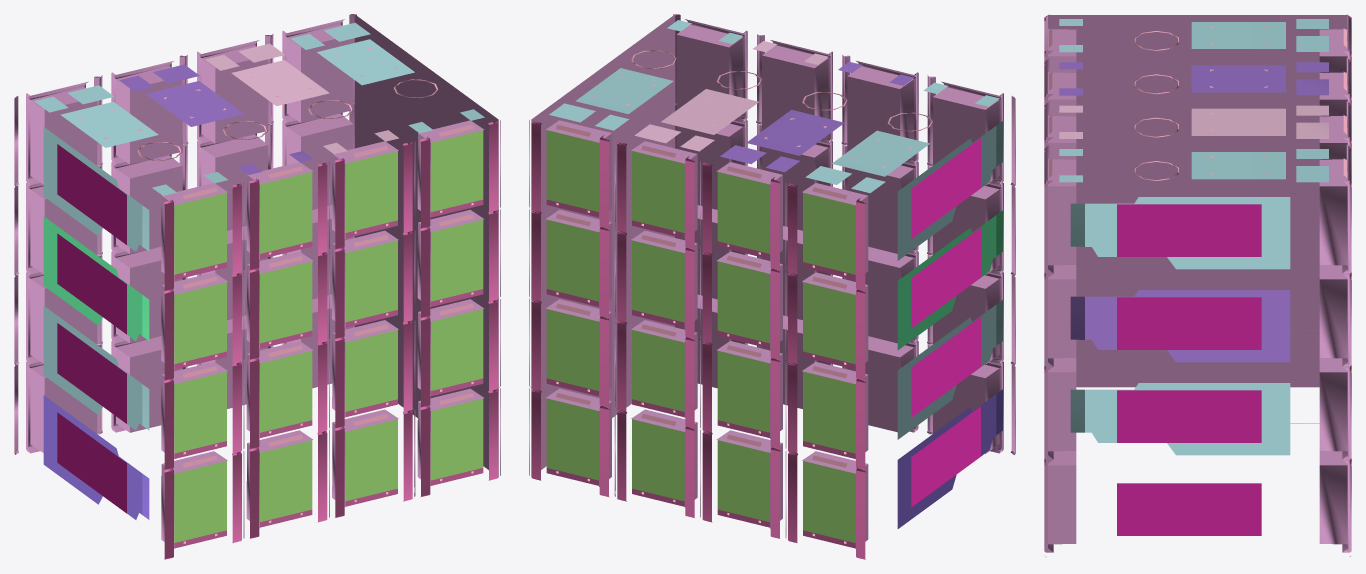
Rendered from storage_container_stack_5_b_lod3.glb.
The picture shows the model from 3 angles, left to right: view 1: azimuth 30°, elevation 25°; view 2: azimuth 150°, elevation 25°; view 3: azimuth 270°, elevation 25°; orthographic projection. The views are drawn at different scales.
Bounding box in the file's own units: 10.01 × 10.03 × 7.49.
